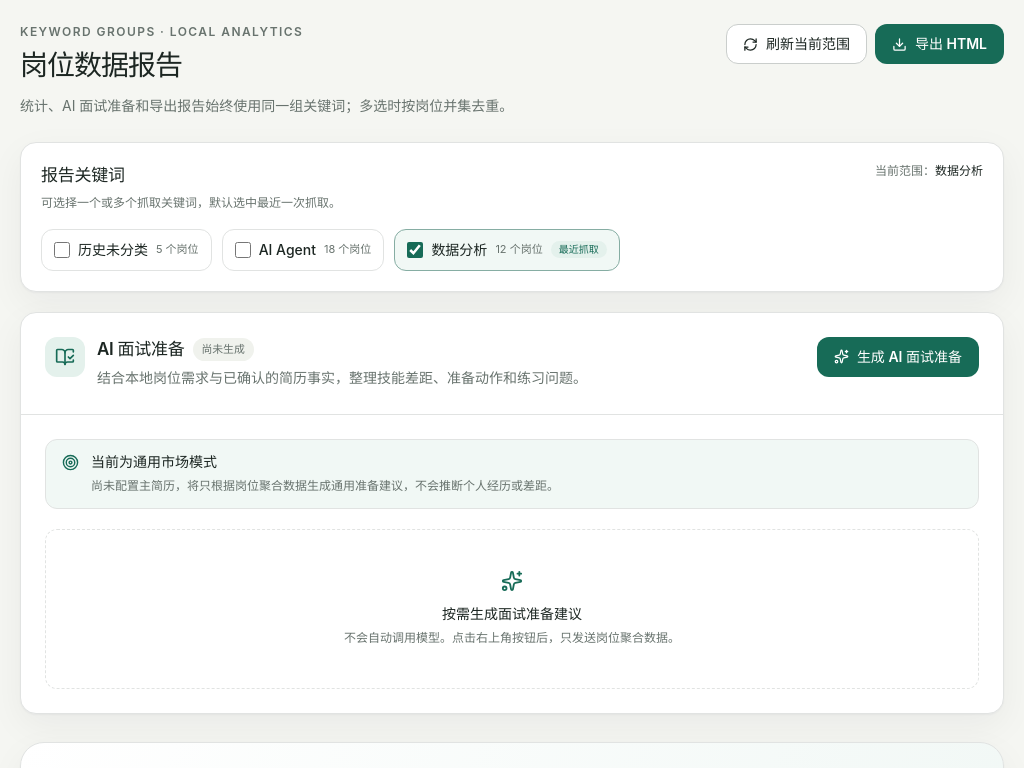
Scenario: full job data report page › does not generate a report when no keyword is selected
Step 1. Click the checkbox labelled "数据分析 12 个岗位 最近抓取" → (415, 250), box x1=407 y1=242 x2=423 y2=258
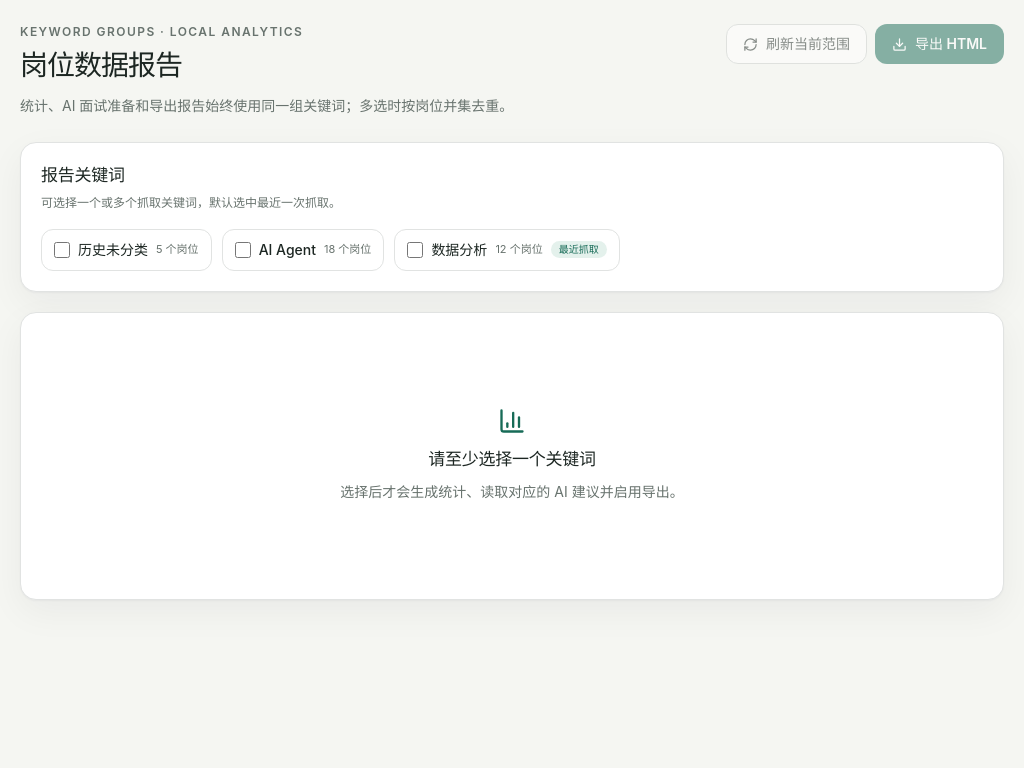
Expected: the heading "请至少选择一个关键词" is shown, x1=428 y1=449 x2=596 y2=469
Expected: the button "导出 HTML" is disabled, x1=875 y1=24 x2=1004 y2=64
